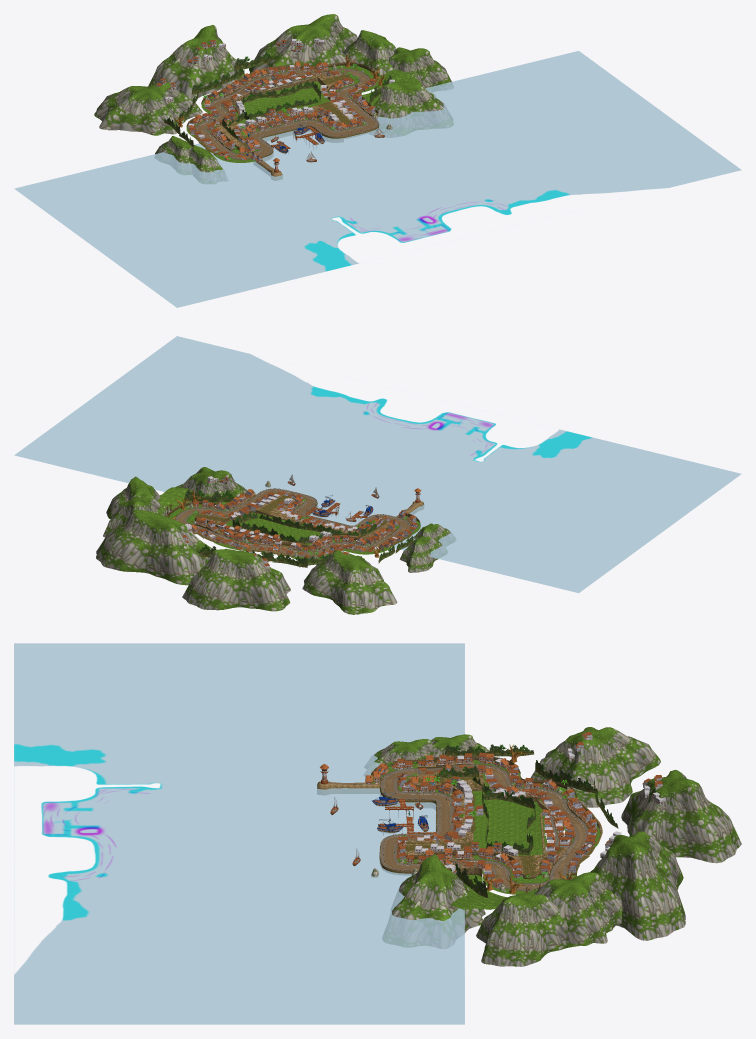
File: shark_harbor.glb
The picture shows the model from 3 angles, top to bottom: view 1: azimuth 30°, elevation 25°; view 2: azimuth 150°, elevation 25°; view 3: azimuth 270°, elevation 25°; orthographic projection. The views are drawn at different scales.
Visible parts, largest first — view 1: Building_Glass; view 2: Building_Glass; view 3: Building_Glass.
Boxes of the visible parts, <box> form: Building_Glass: <box>14,14,741,307</box>; Building_Glass: <box>14,336,741,614</box>; Building_Glass: <box>14,643,741,1024</box>.
Size of the model in its own units: 2048 by 183 by 1653.
Materials: 48 (47 with a texture image).
